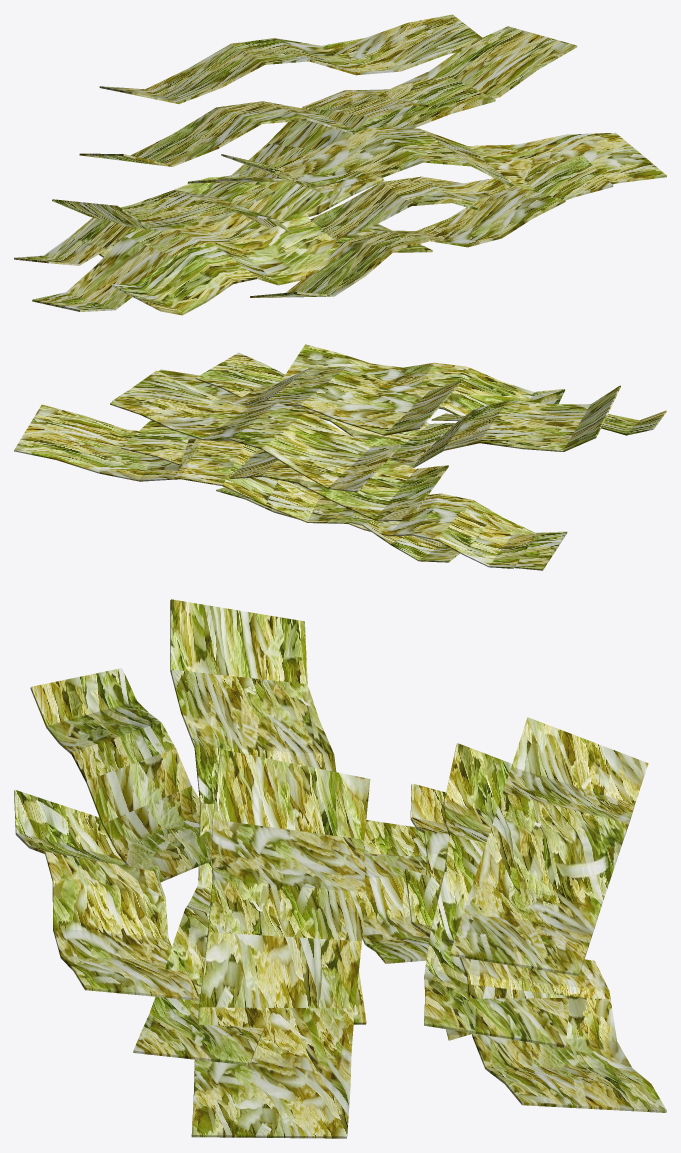
Rendered from salad.fbx.
The picture shows the model from 3 angles, top to bottom: view 1: azimuth 30°, elevation 25°; view 2: azimuth 150°, elevation 25°; view 3: azimuth 270°, elevation 25°; orthographic projection. The views are drawn at different scales.
Parts seen in each view (by area): view 1: Plane.307; view 2: Plane.307; view 3: Plane.307.
Boxes of the visible parts, x1,y1,x2,y2 form: Plane.307: [14, 14, 666, 315]; Plane.307: [14, 344, 666, 570]; Plane.307: [14, 599, 666, 1138].
Bounding box in the file's own units: 9.88 × 2.58 × 6.56.
